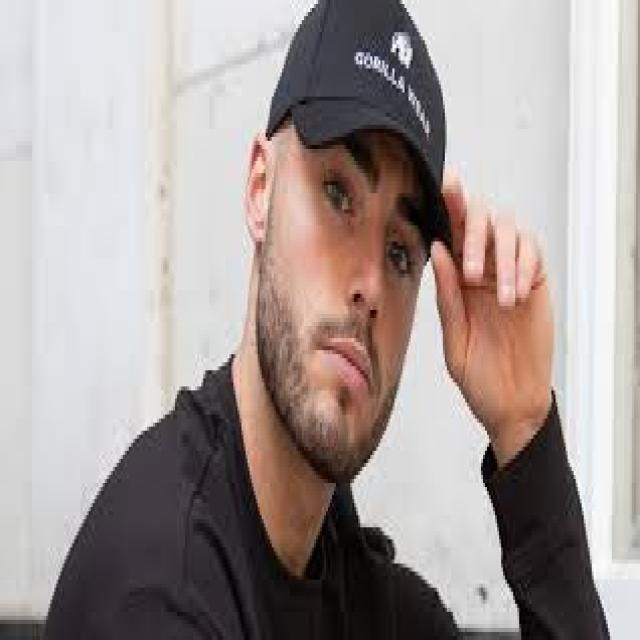cap: (236, 0, 503, 294)
